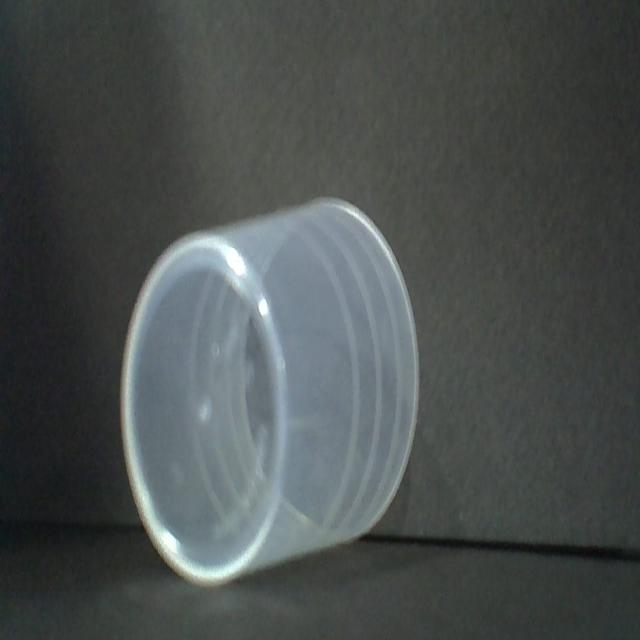cup: (119, 190, 422, 590)
